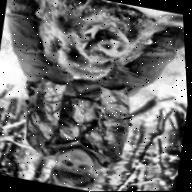boar: (22, 0, 178, 119)
